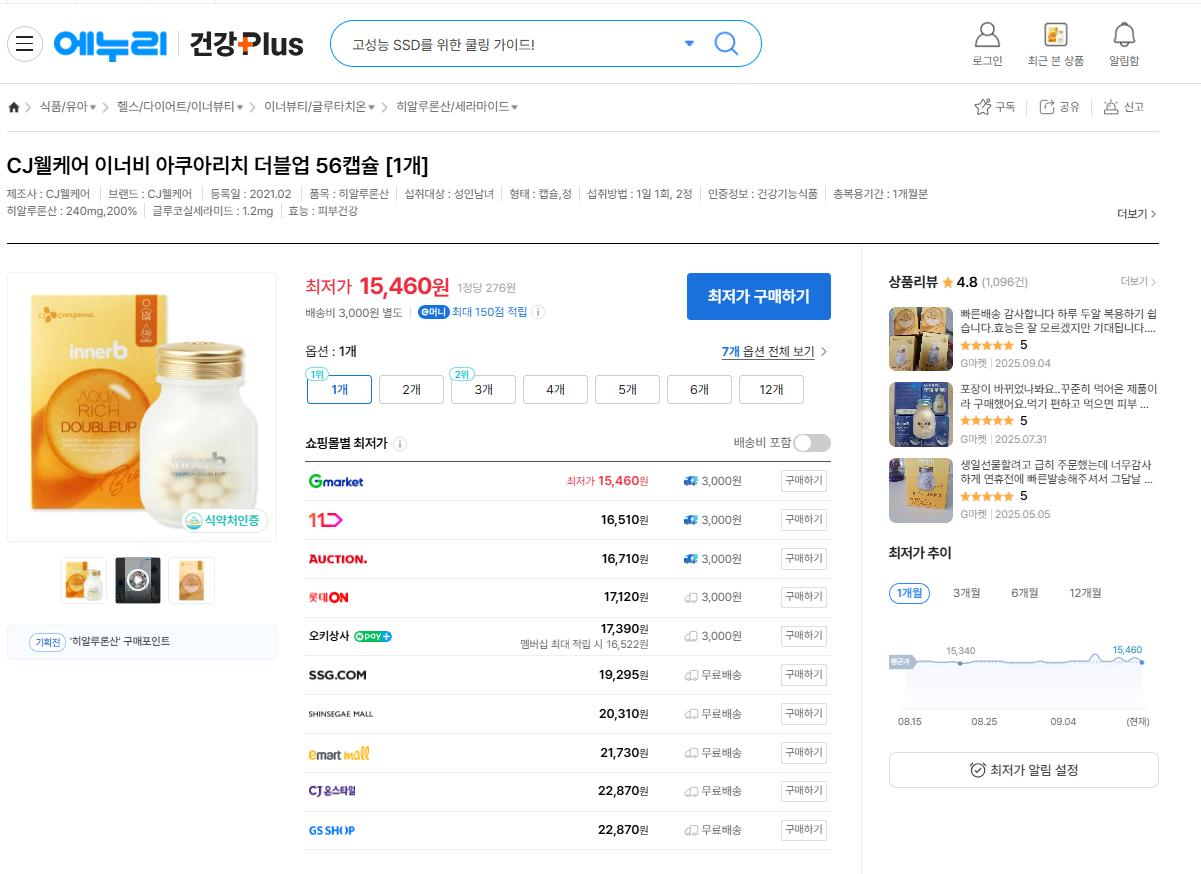button: (890, 751, 1159, 788), (687, 269, 832, 323), (194, 14, 305, 65), (1025, 18, 1090, 69), (1099, 18, 1148, 75), (299, 371, 372, 406), (452, 368, 515, 407), (965, 18, 1014, 68), (522, 373, 589, 406), (596, 371, 660, 405), (740, 373, 803, 407), (380, 372, 445, 404), (720, 344, 831, 362), (666, 376, 731, 405), (966, 92, 1025, 120), (1035, 94, 1094, 121), (1102, 88, 1155, 118), (781, 701, 833, 730), (5, 22, 39, 65), (781, 660, 830, 687), (778, 817, 832, 841), (1112, 201, 1163, 226), (779, 469, 827, 495), (707, 28, 742, 61), (783, 587, 828, 610), (779, 509, 830, 529), (778, 780, 828, 800), (783, 547, 826, 570), (782, 740, 821, 758), (1119, 272, 1160, 288), (785, 628, 824, 641), (680, 36, 698, 53)
popup: (7, 268, 285, 657), (875, 260, 1175, 536)
